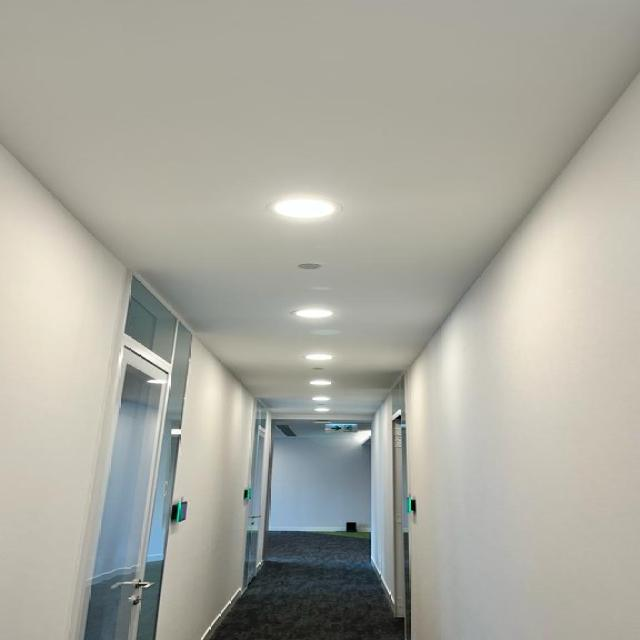Light-Opened: (260, 188, 348, 225), (291, 304, 338, 323), (302, 350, 338, 364), (308, 378, 334, 389), (309, 406, 334, 413), (308, 395, 332, 402)
